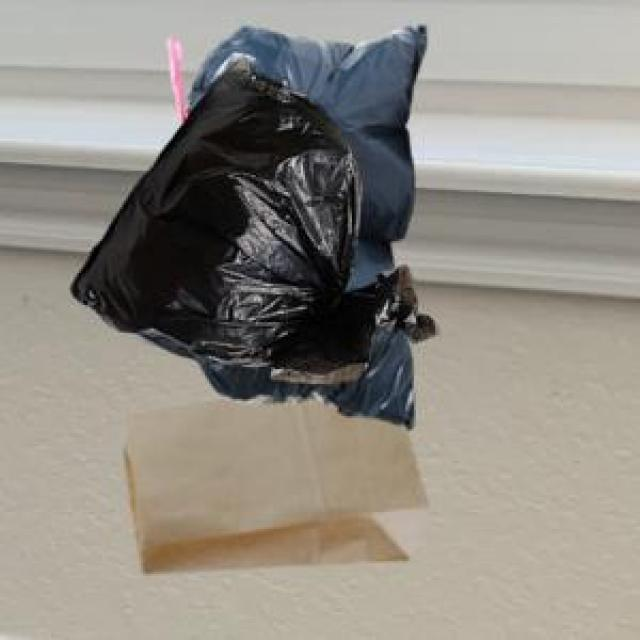miscellaneous trash: (66, 53, 435, 380), (162, 21, 422, 425)
paper: (120, 395, 422, 570)
